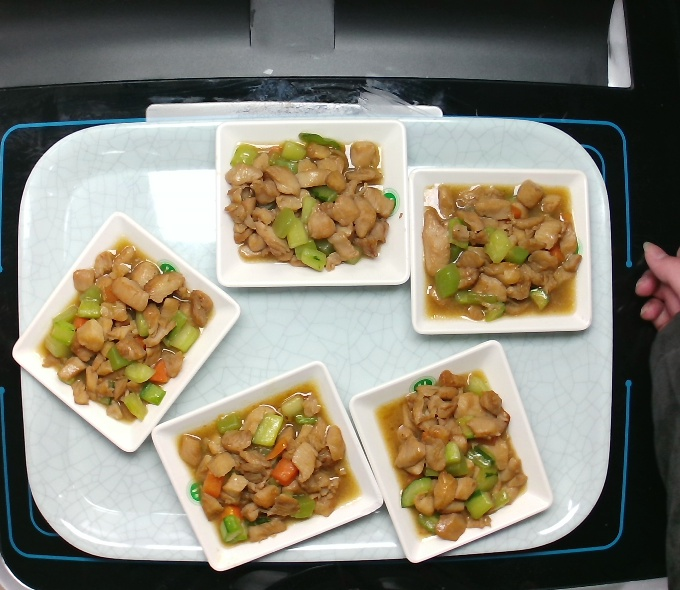wcq-GongBaoJiDing: (26, 238, 218, 424), (174, 379, 361, 549), (370, 370, 526, 541), (226, 132, 391, 271), (417, 184, 582, 323)
